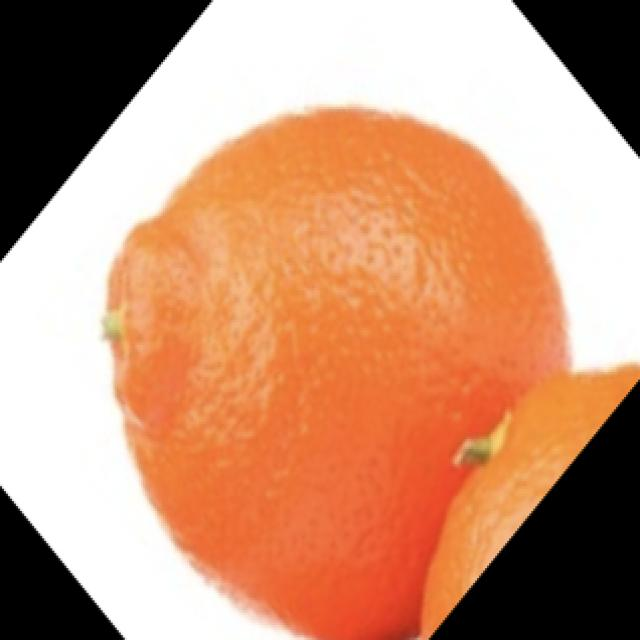fresh: (74, 106, 640, 639)
